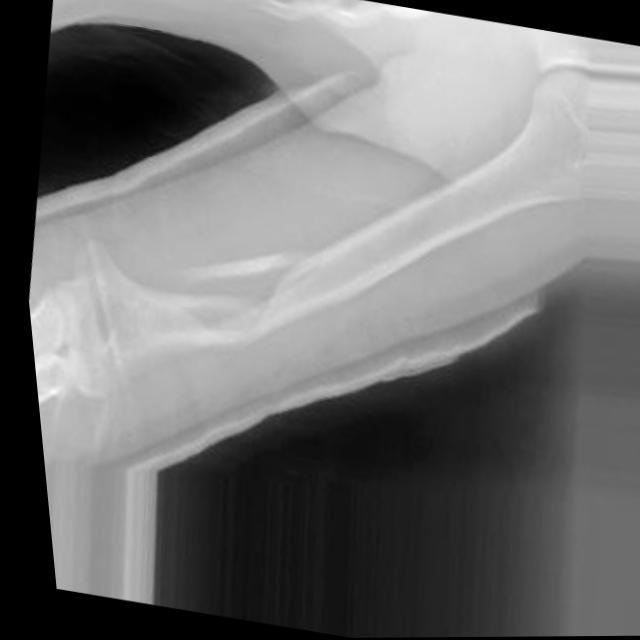fracture: (132, 207, 329, 378)
